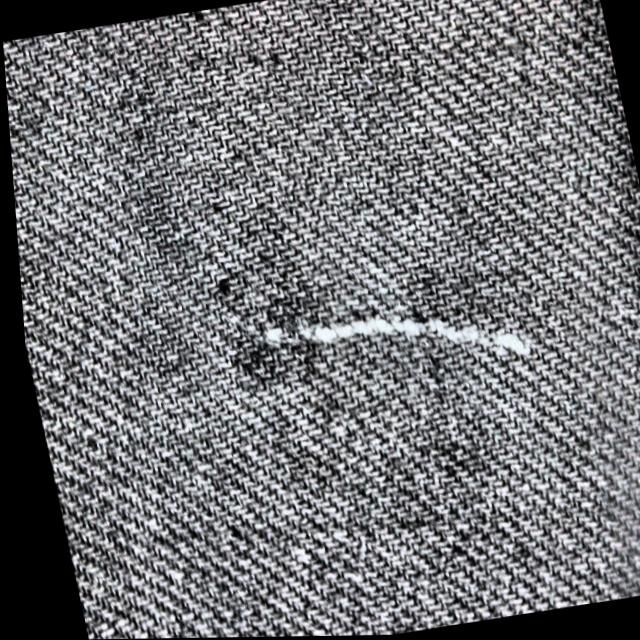Hole: (302, 294, 526, 367)
